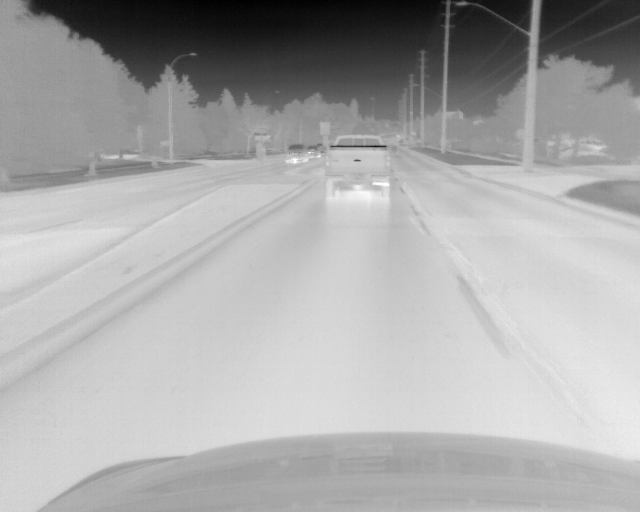car: (324, 135, 392, 204), (283, 143, 309, 167), (306, 145, 321, 160)
